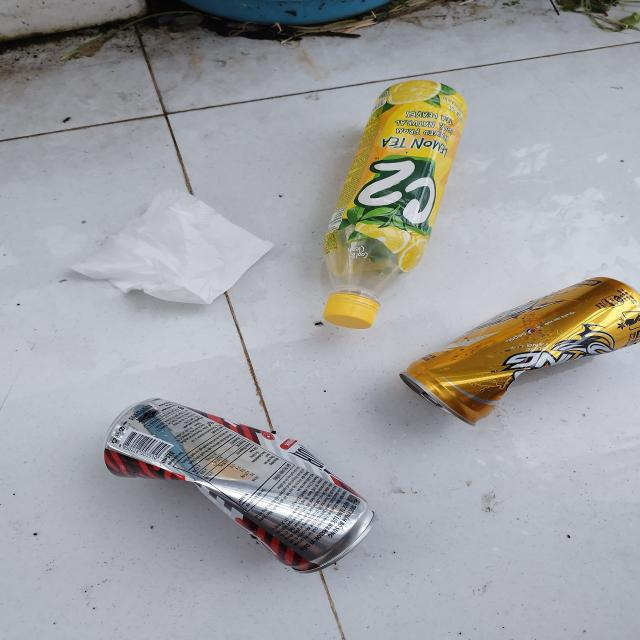bottle: (322, 80, 468, 330)
can: (103, 396, 378, 574), (399, 276, 640, 428)
napkin: (69, 188, 275, 307)
